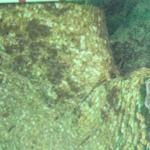dead: (4, 1, 147, 149)
